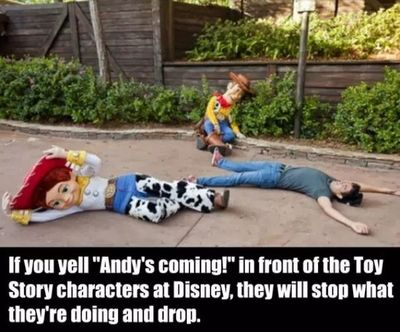fall: (184, 70, 262, 156)
